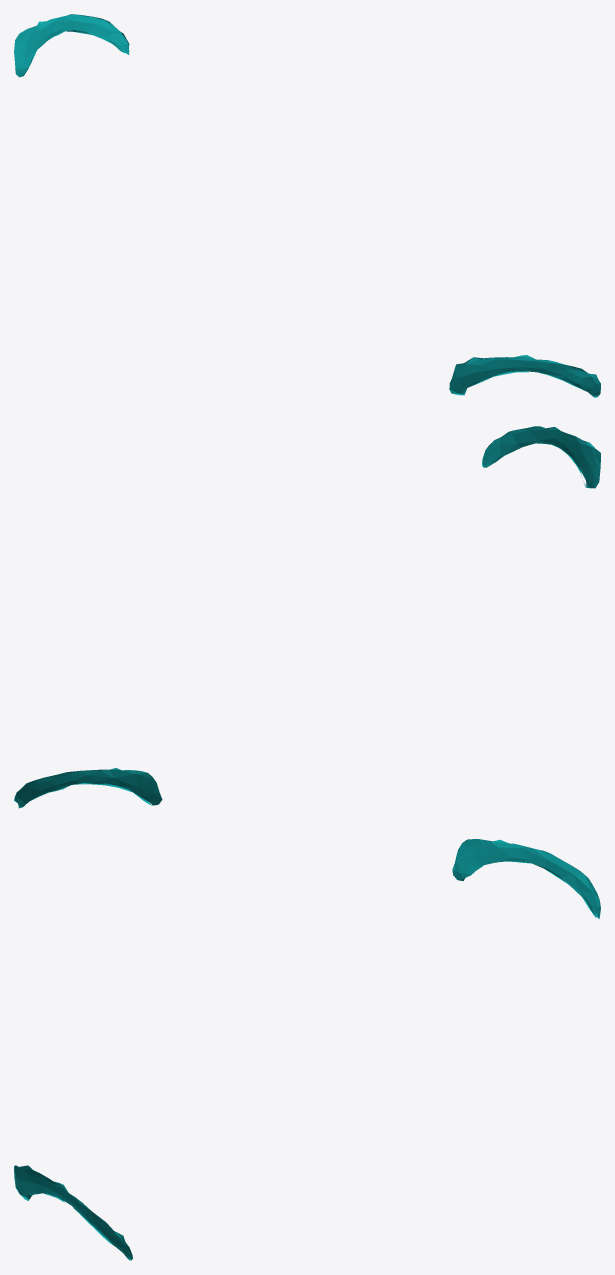
3 renders of one model, top to bottom at view 1: azimuth 30°, elevation 25°; view 2: azimuth 150°, elevation 25°; view 3: azimuth 330°, elevation 25°, orthographic.
Visible parts, largest first — view 1: 598.obj; view 2: 598.obj; view 3: 598.obj.
Part boxes in pixels (<box>): 598.obj: <box>14,14,600,397</box>; 598.obj: <box>14,426,600,808</box>; 598.obj: <box>14,839,600,1260</box>.
Bounding box in the file's own units: 1392 × 608 × 8619.
